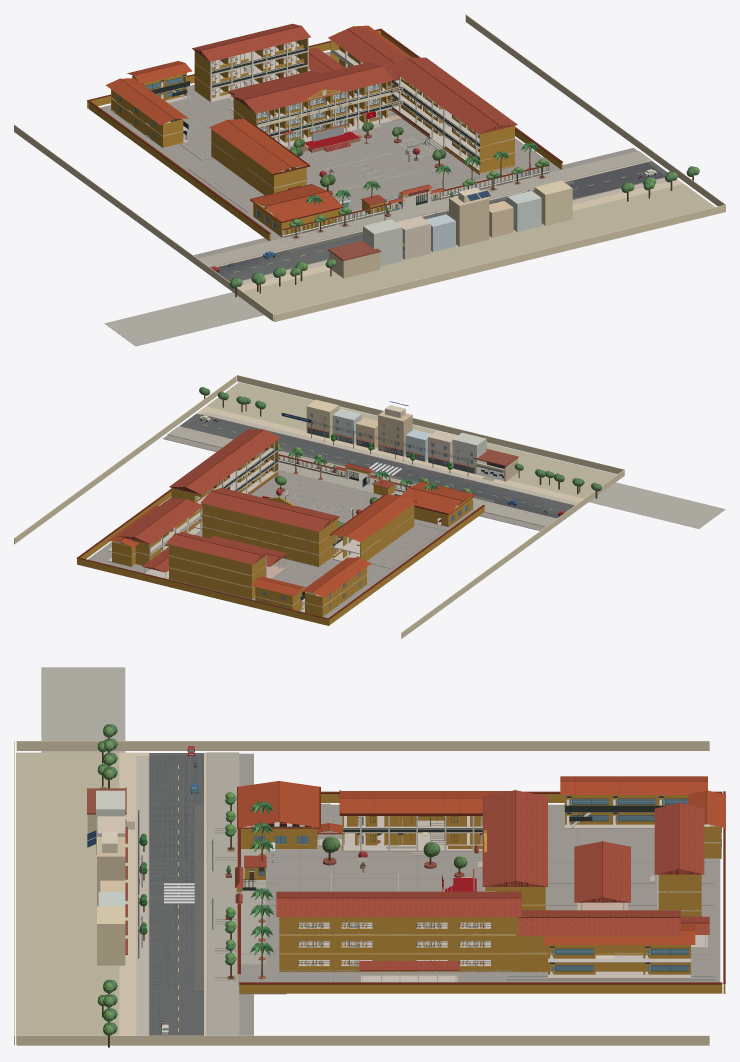
The model's file is THPT_Kien_An_V63_ToaGiua_5Lop.glb.
3 views of the same model, one above another, from view 1: azimuth 30°, elevation 25°; view 2: azimuth 150°, elevation 25°; view 3: azimuth 270°, elevation 25° (orthographic). The views are drawn at different scales.
Parts seen in each view (by area): view 1: V29_OPPOSITE_OUTER_GROUND, GROUND_COURTYARD, ROAD_back_lot, RIGHT_ROOF, WORLD_EDGE_OPPOSITE, CENTER_ROOF, REAR_COURTYARD_GROUND, V48_LEFT_TEACHERS_RED_TILE_ROOF, WORLD_EDGE_LEFT, WORLD_EDGE_RIGHT, REAR_ROOF, V29_STREET_WALKABLE (+35 smaller); view 2: V29_OPPOSITE_OUTER_GROUND, GROUND_COURTYARD, V29_STREET_WALKABLE, ROAD_back_lot, RIGHT_ROOF, ROAD_road, CENTER_ROOF, WORLD_EDGE_OPPOSITE, V29_OPPOSITE_SIDEWALK_WALKABLE, RIGHT_REAR_2F_ROOF, CAMPUS_PERIMETER_REAR, V48_LEFT_TEACHERS_RED_TILE_ROOF (+35 smaller); view 3: V29_OPPOSITE_OUTER_GROUND, V29_STREET_WALKABLE, GROUND_COURTYARD, REAR_COURTYARD_GROUND, WORLD_EDGE_RIGHT, WORLD_EDGE_LEFT, RIGHT_ROOF, ROAD_back_lot, CENTER_ROOF, CAMPUS_PERIMETER_RIGHT, RIGHT_REAR_2F_ROOF, V29_OPPOSITE_SIDEWALK_WALKABLE (+39 smaller).
Part boxes in pixels (x1=…): V29_OPPOSITE_OUTER_GROUND: x1=243, y1=184, x2=714, y2=319; GROUND_COURTYARD: x1=187, y1=118, x2=507, y2=212; ROAD_back_lot: x1=104, y1=292, x2=263, y2=346; RIGHT_ROOF: x1=387, y1=57, x2=517, y2=134; WORLD_EDGE_OPPOSITE: x1=274, y1=204, x2=725, y2=321; CENTER_ROOF: x1=231, y1=62, x2=393, y2=113; REAR_COURTYARD_GROUND: x1=169, y1=52, x2=394, y2=160; V48_LEFT_TEACHERS_RED_TILE_ROOF: x1=209, y1=118, x2=307, y2=173; WORLD_EDGE_LEFT: x1=14, y1=124, x2=273, y2=321; WORLD_EDGE_RIGHT: x1=465, y1=14, x2=725, y2=206; REAR_ROOF: x1=192, y1=23, x2=310, y2=61; V29_STREET_WALKABLE: x1=218, y1=161, x2=667, y2=281; V29_OPPOSITE_OUTER_GROUND: x1=206, y1=382, x2=616, y2=498; GROUND_COURTYARD: x1=250, y1=470, x2=443, y2=568; V29_STREET_WALKABLE: x1=179, y1=414, x2=573, y2=517; ROAD_back_lot: x1=589, y1=482, x2=725, y2=528; RIGHT_ROOF: x1=169, y1=429, x2=280, y2=494; ROAD_road: x1=275, y1=433, x2=497, y2=497; CENTER_ROOF: x1=200, y1=487, x2=339, y2=531; WORLD_EDGE_OPPOSITE: x1=237, y1=375, x2=624, y2=475; V29_OPPOSITE_SIDEWALK_WALKABLE: x1=196, y1=406, x2=583, y2=505; RIGHT_REAR_2F_ROOF: x1=118, y1=497, x2=202, y2=544; CAMPUS_PERIMETER_REAR: x1=77, y1=558, x2=329, y2=625; V48_LEFT_TEACHERS_RED_TILE_ROOF: x1=331, y1=494, x2=415, y2=542; V29_OPPOSITE_OUTER_GROUND: x1=16, y1=752, x2=119, y2=1044; V29_STREET_WALKABLE: x1=149, y1=753, x2=203, y2=1035; GROUND_COURTYARD: x1=266, y1=811, x2=493, y2=982; REAR_COURTYARD_GROUND: x1=506, y1=823, x2=715, y2=980; WORLD_EDGE_RIGHT: x1=16, y1=1035, x2=709, y2=1045; WORLD_EDGE_LEFT: x1=16, y1=741, x2=709, y2=750; RIGHT_ROOF: x1=276, y1=891, x2=521, y2=917; ROAD_back_lot: x1=41, y1=667, x2=125, y2=752; CENTER_ROOF: x1=482, y1=790, x2=547, y2=886; CAMPUS_PERIMETER_RIGHT: x1=239, y1=984, x2=722, y2=993; RIGHT_REAR_2F_ROOF: x1=516, y1=910, x2=680, y2=935; V29_OPPOSITE_SIDEWALK_WALKABLE: x1=119, y1=752, x2=149, y2=1035.
Size of the model in its own units: 216 by 17.83 by 169.
Materials: 53 (47 with a texture image).
